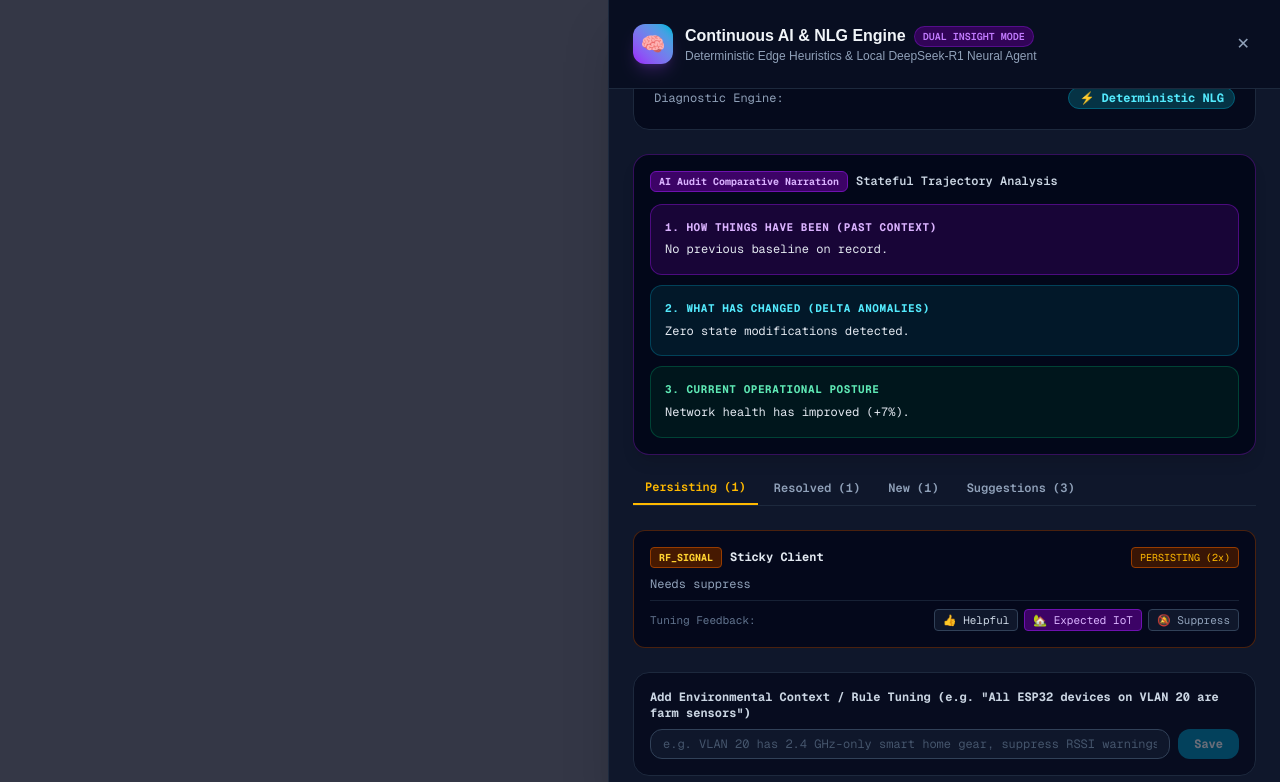
Test case: AiInsightsDrawer Component › handles suppress button and new issue IoT tagging
The width and height of the screenshot is (1280, 782).
(page scrolled)
Check: the text "Sticky Client" is shown, box [730,549,824,565]
Note: Test Suppress button
Click the button "🔕 Suppress": (1193, 620) [1148,609,1239,631]
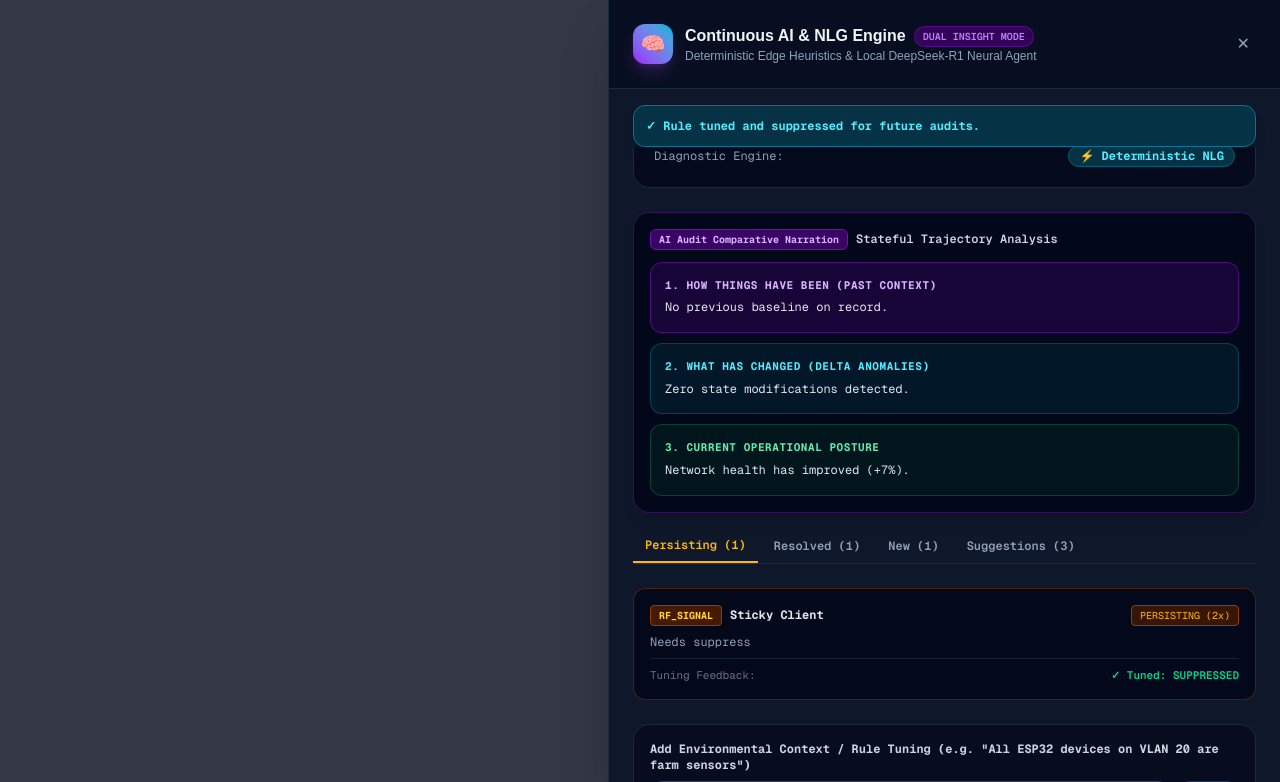
Check: the text "✓ Rule tuned and suppressed for future audits." is shown, box [633,105,1256,147]
Note: Switch to New tab and test Expected IoT button
Click the button "New (1)": (913, 550) [876,537,951,563]
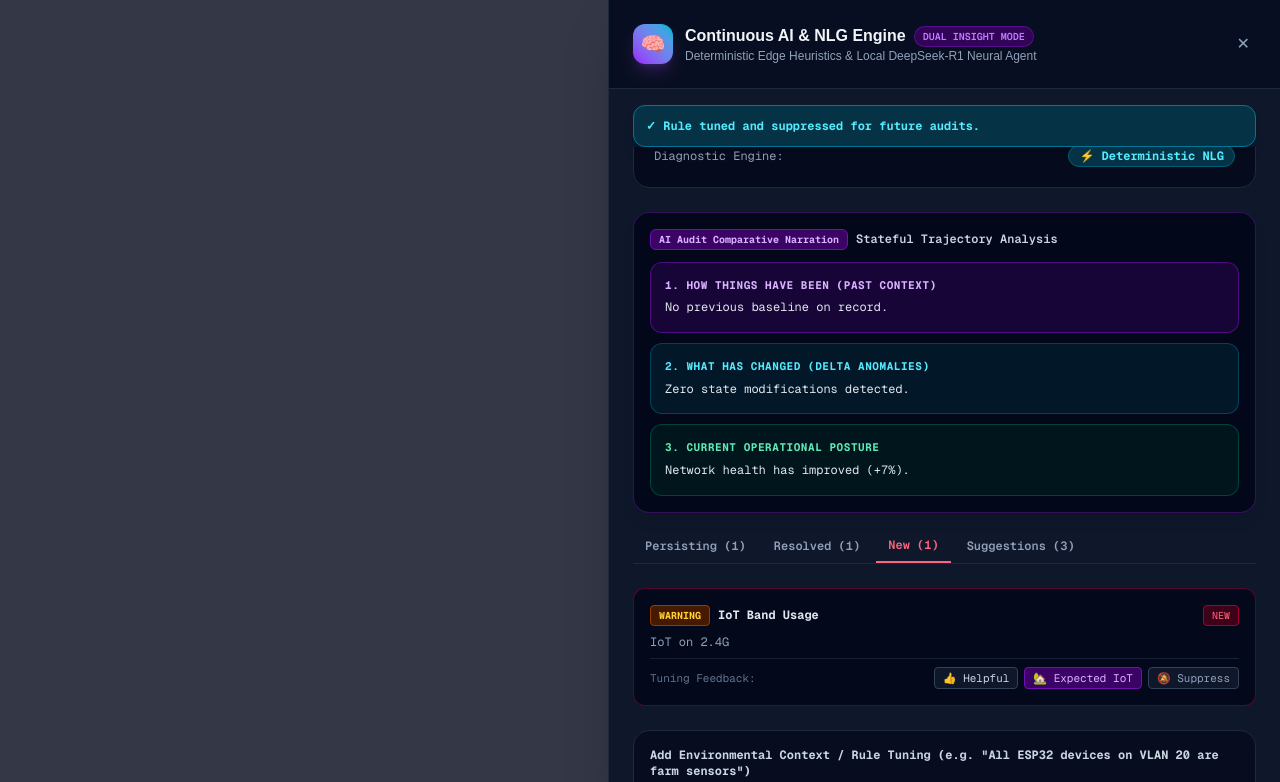
Click the button "🏡 Expected IoT": (1083, 678) [1024,667,1142,689]
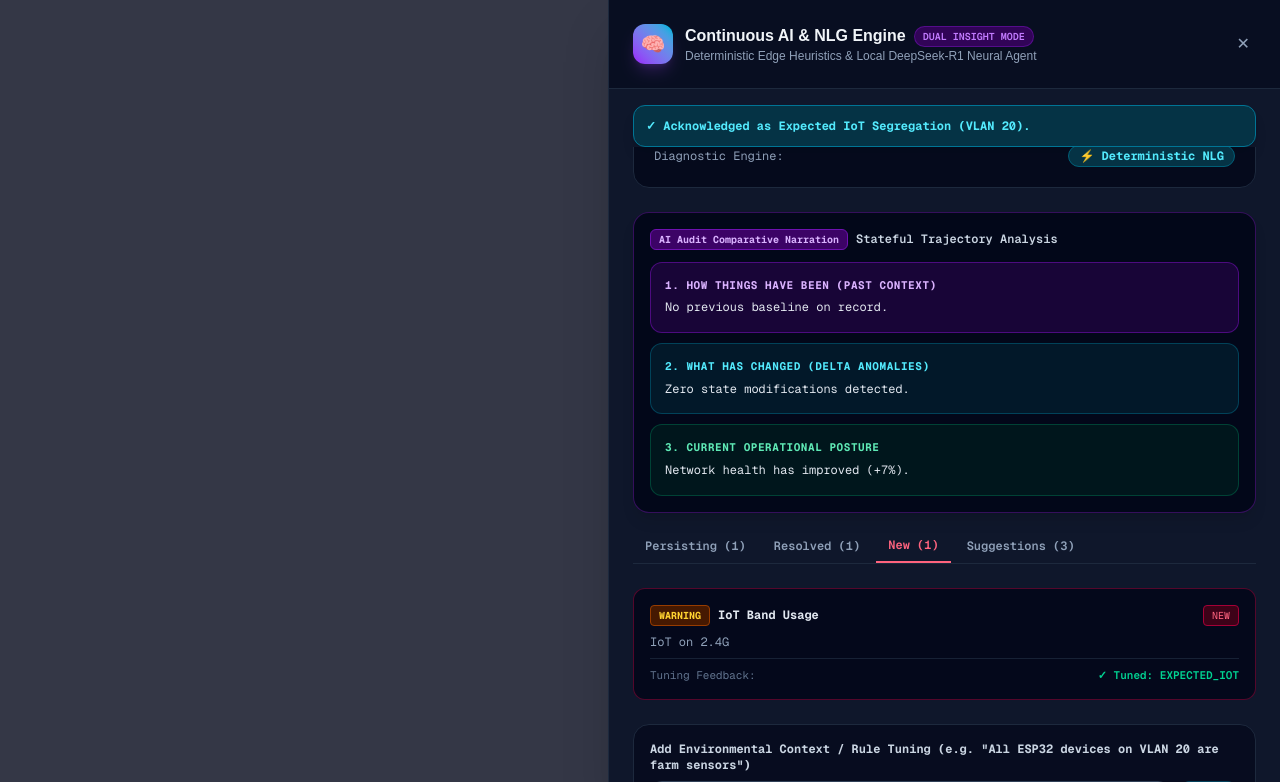
Check: the text "✓ Tuned: EXPECTED_IOT" is shown, box [1098,667,1239,683]
